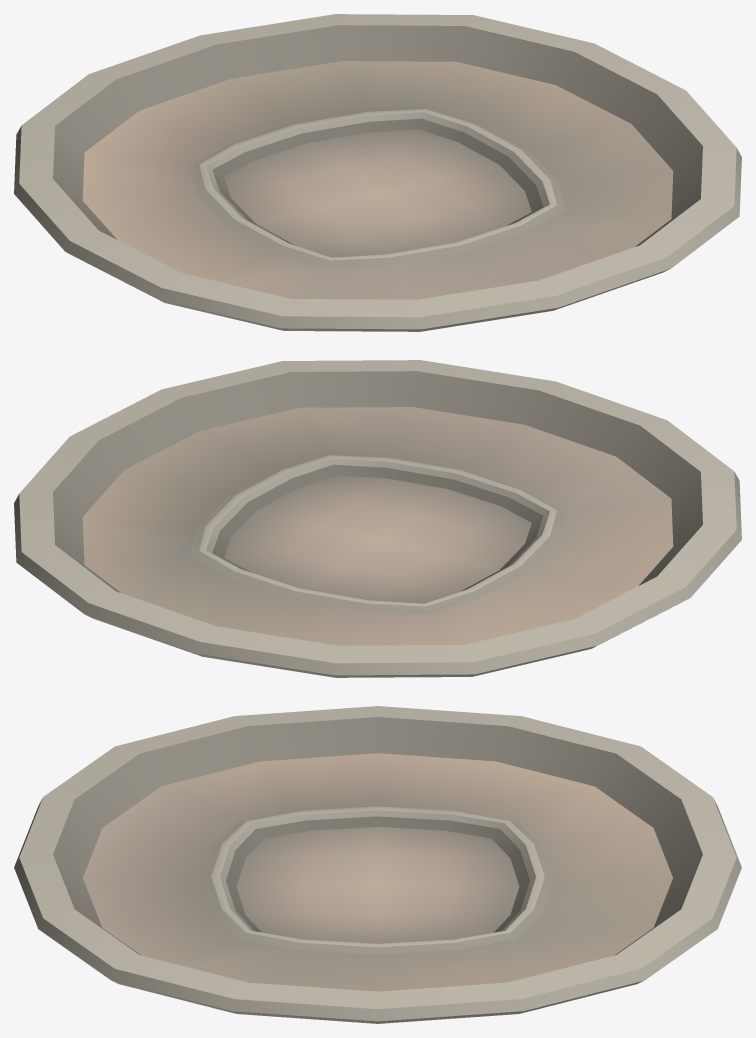
File: plate.fbx
The picture shows the model from 3 angles, top to bottom: view 1: azimuth 30°, elevation 25°; view 2: azimuth 150°, elevation 25°; view 3: azimuth 270°, elevation 25°; orthographic projection.
Visible parts, largest first — view 1: Plate; view 2: Plate; view 3: Plate.
Boxes of the visible parts, left/top/right/bottom form: Plate: left=14, top=14, right=741, bottom=331; Plate: left=14, top=360, right=741, bottom=677; Plate: left=14, top=706, right=741, bottom=1023.
Size of the model in its own units: 24.17 by 3.44 by 24.17.
